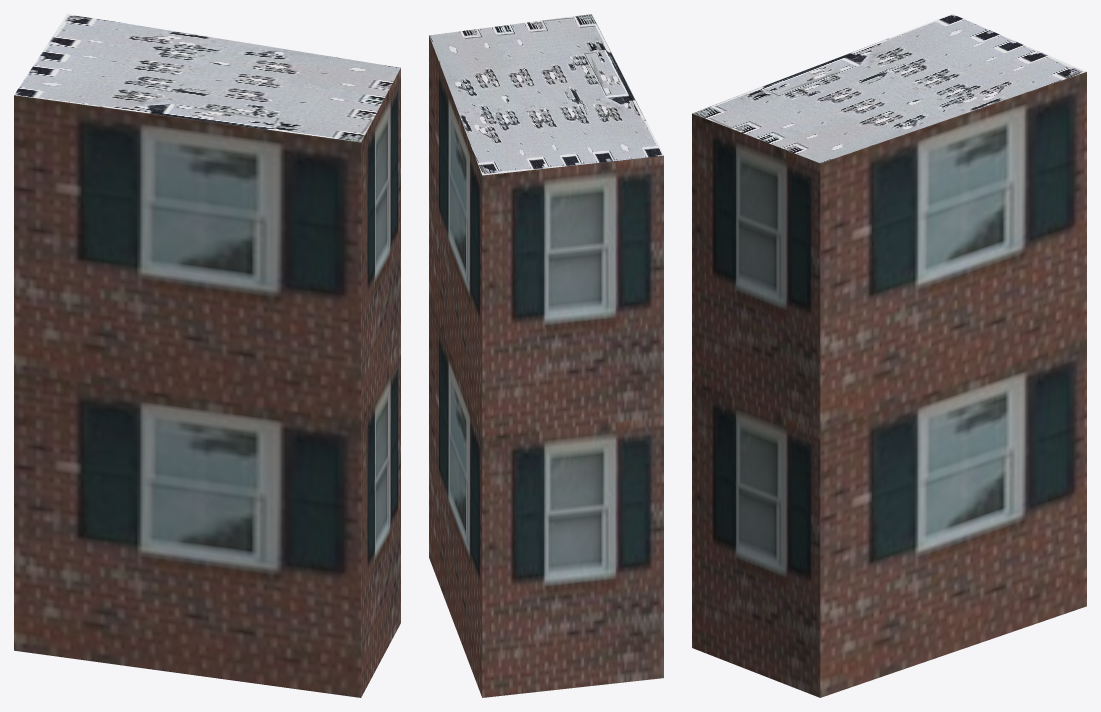
File: ResTex__1281.fbx
3 views of the same model, side by side, from view 1: azimuth 30°, elevation 25°; view 2: azimuth 150°, elevation 25°; view 3: azimuth 270°, elevation 25° (orthographic). The views are drawn at different scales.
Parts seen in each view (by area): view 1: CityEngineMaterial_14_m, CityEngineMaterial_m; view 2: CityEngineMaterial_14_m, CityEngineMaterial_m; view 3: CityEngineMaterial_14_m, CityEngineMaterial_m.
Part boxes in pixels (x1,y1,x2,y2): CityEngineMaterial_14_m: (14,68,400,697); CityEngineMaterial_m: (14,14,400,142); CityEngineMaterial_14_m: (429,36,663,697); CityEngineMaterial_m: (429,14,663,175); CityEngineMaterial_14_m: (692,72,1086,697); CityEngineMaterial_m: (692,14,1086,163).
Bounding box in the file's own units: 3.6 × 6 × 4.02.
2 materials, 2 textured.
